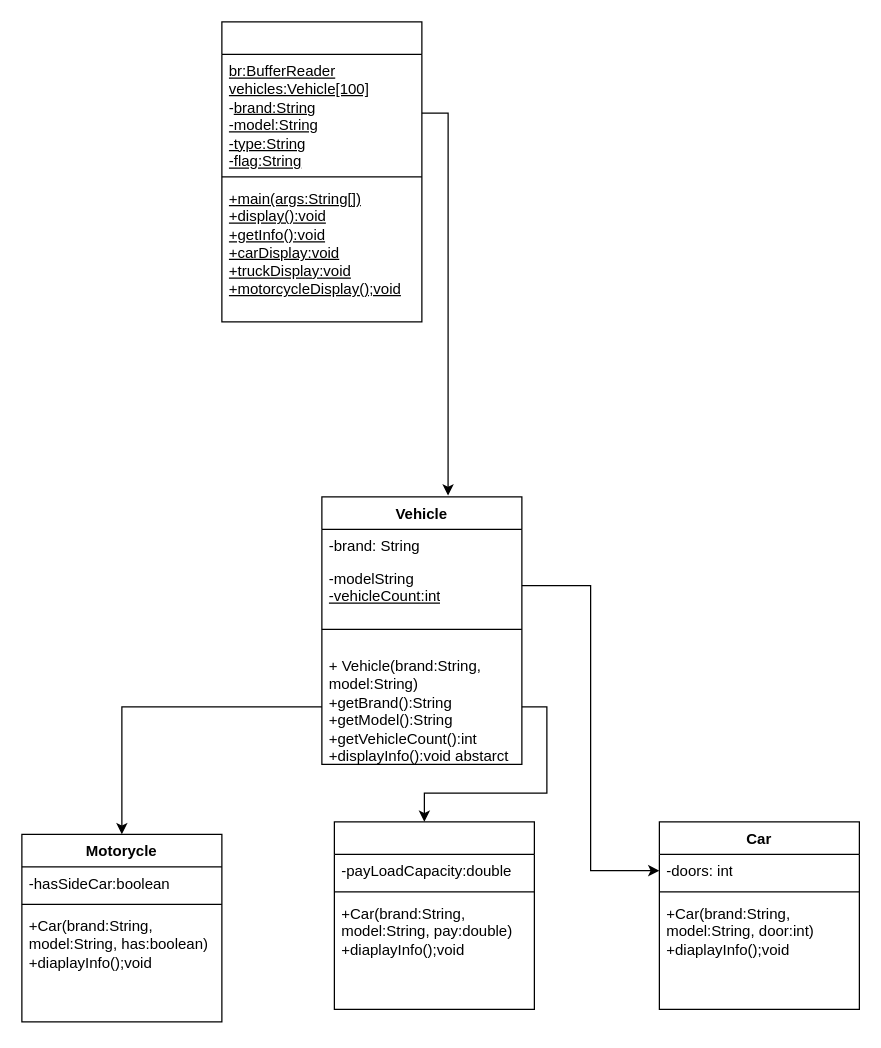
The diagram is 881 pixels wide and 1048 high, and some of its shapes have lost their labels. The shapes that lost their labels are listed below. From the top down, each one's box as (x1, y1, x2, y2) in pixels, then its label:
(221, 21, 422, 322): VehicleRegistationSystem
(333, 821, 534, 1009): Truck
